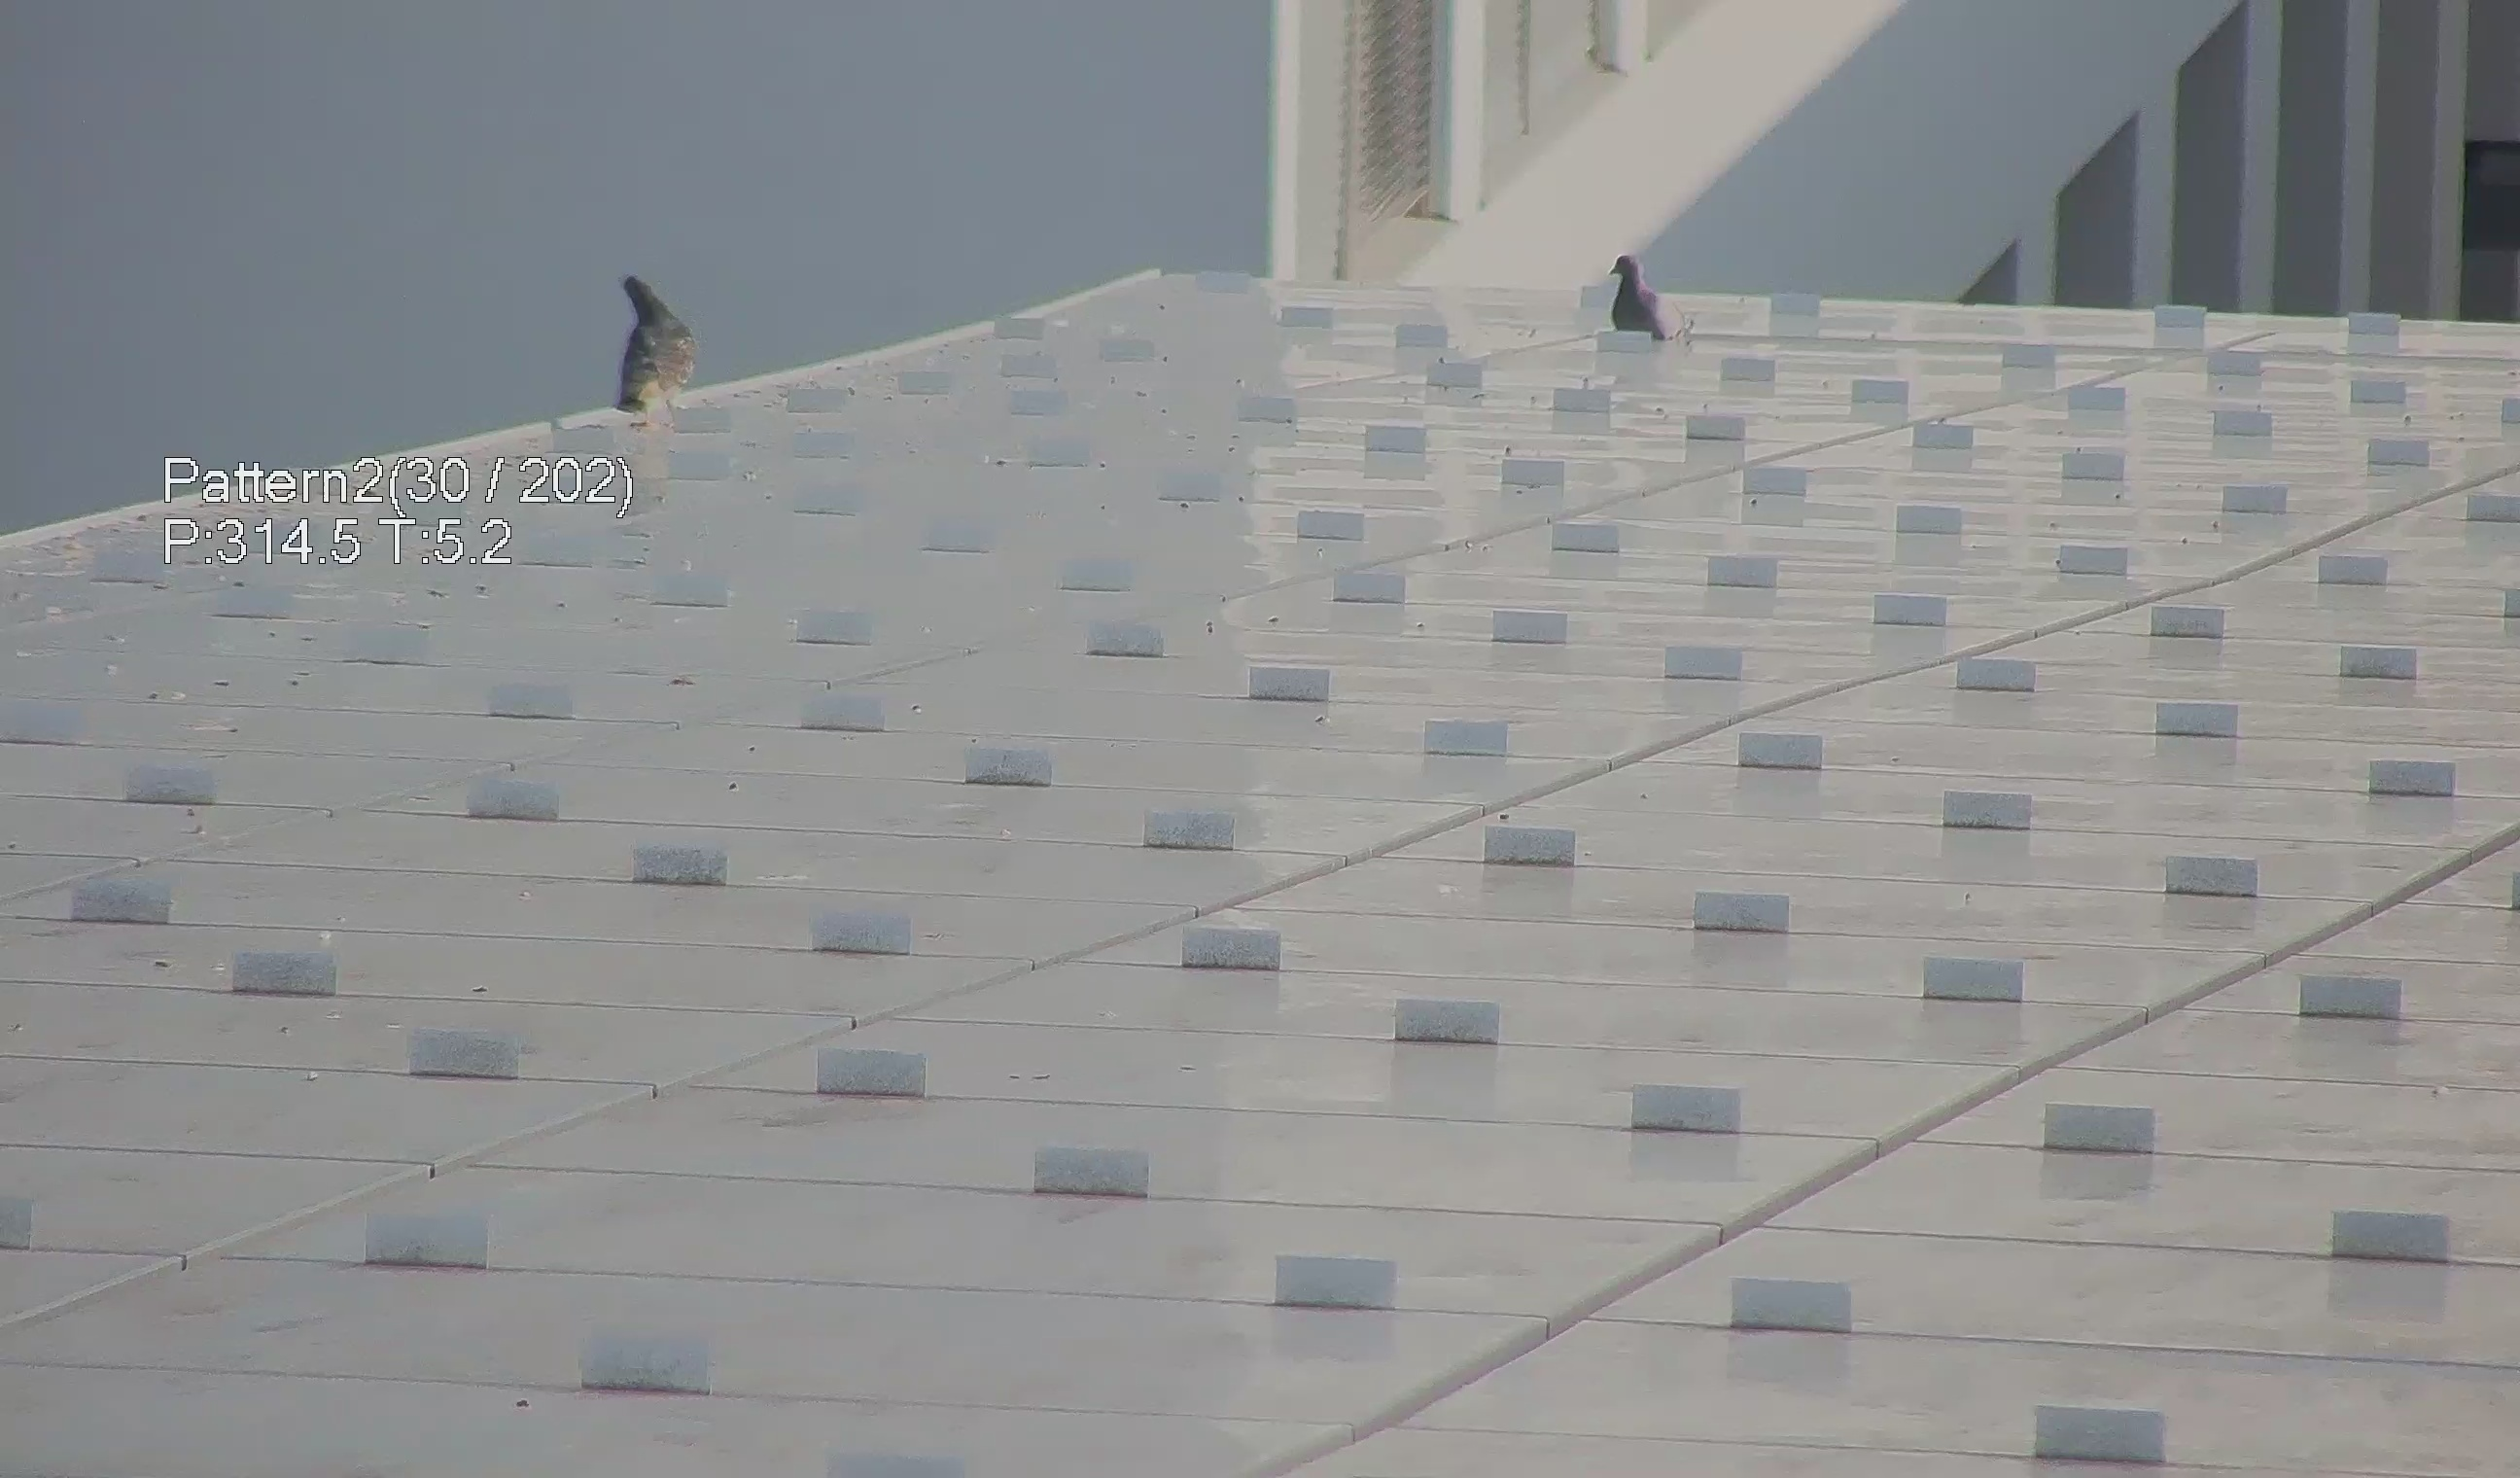Pigeon: (589, 257, 696, 433), (1600, 236, 1697, 347)
